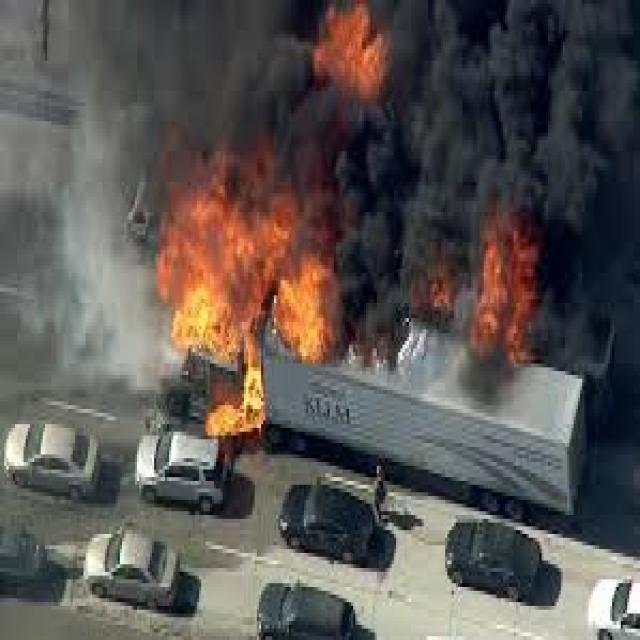Fire: (174, 190, 330, 430), (477, 212, 544, 364), (311, 0, 388, 98)
Smoke: (395, 0, 639, 203), (70, 2, 309, 162), (28, 168, 166, 388), (338, 114, 392, 360)
